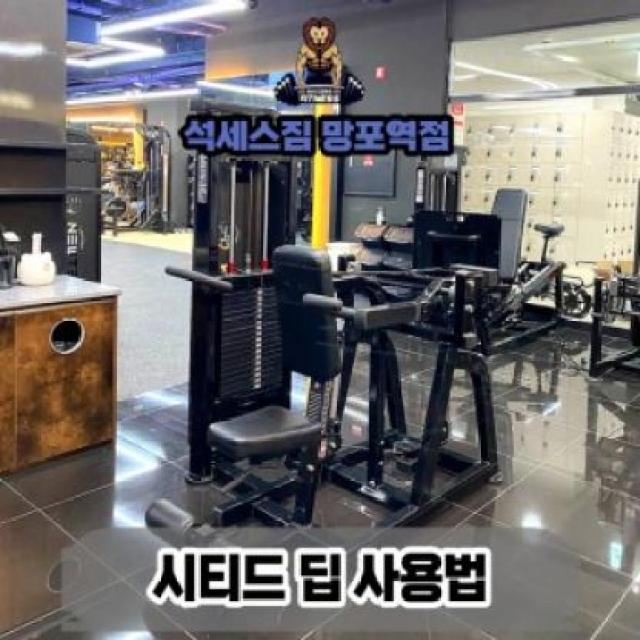seated dip machine: (164, 244, 518, 530)
